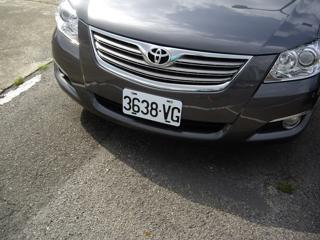plate: (121, 86, 183, 129)
